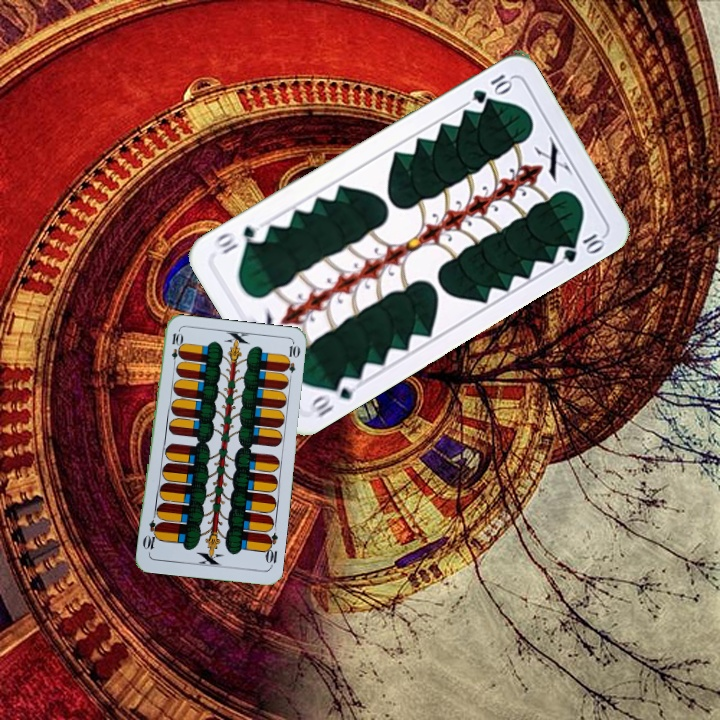E10: (261, 529, 280, 570), (167, 329, 183, 370)
G10: (305, 372, 358, 420), (468, 70, 515, 106)
